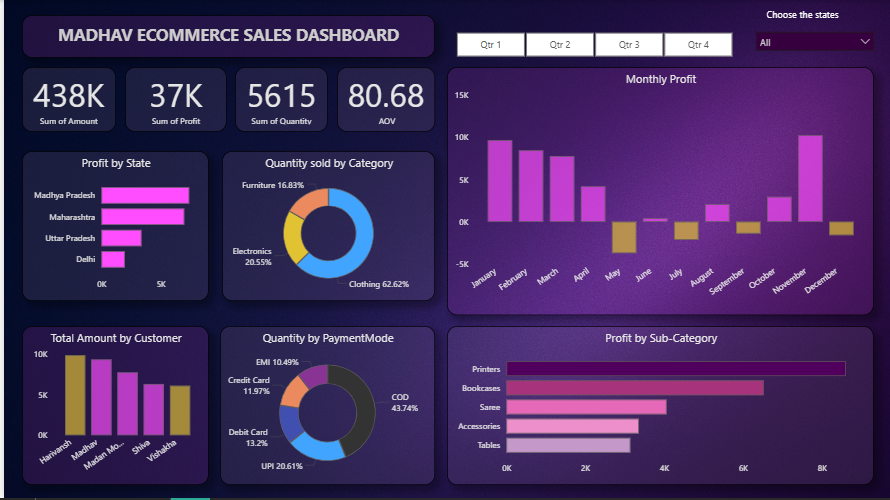

This screenshot's page, from the dashboard's own definition file:
{"tool":"powerbi","page":{"name":"Page 1Dashboard","canvas":[1280,720],"ordinal":0},"visuals":[{"type":"textbox","box":[26,0,597.1,83.9],"z":0},{"type":"columnChart","title":"Monthly Profit","fields":{"Category":["Orders.Order Date.Variation.Date Hierarchy.Month"],"Y":["Details.Profit"]},"box":[640.5,96.9,617.3,358.6],"z":1000},{"type":"barChart","title":" Profit by Sub-Category","fields":{"Category":["Details.Sub-Category"],"Y":["Details.Profit"]},"box":[640.5,471.3,617.3,229.9],"z":2000},{"type":"donutChart","title":"Quantity sold  by Category","fields":{"Category":["Details.Category"],"Y":["Details.Quantity"]},"box":[315.2,218.3,308,216.9],"z":3000},{"type":"donutChart","title":"Quantity by PaymentMode","fields":{"Y":["Details.Quantity"],"Category":["Details.PaymentMode"]},"box":[312.3,471.3,310.8,229.9],"z":4000},{"type":"card","fields":{"Values":["Details.AOV"]},"box":[481.4,96.9,141.7,94],"z":5000},{"type":"card","fields":{"Values":["Details.Amount"]},"box":[26,96.9,135.9,94],"z":6000},{"type":"card","fields":{"Values":["Details.Profit"]},"box":[174.5,96.9,147.5,94],"z":7000},{"type":"card","fields":{"Values":["Details.Quantity"]},"box":[334.5,96.9,134.5,94],"z":8000},{"type":"barChart","title":"Profit by State","fields":{"Y":["Details.Profit"],"Category":["Orders.State"]},"box":[26,218.3,270.4,216.9],"z":9000},{"type":"columnChart","title":"Total Amount by Customer","fields":{"Y":["Details.Amount"],"Category":["Orders.CustomerName"]},"box":[26,471.3,270.4,229.9],"z":10000},{"type":"slicer","fields":{"Values":["Orders.Order Date.Variation.Date Hierarchy.Quarter"]},"box":[628.9,40.5,448.2,47.7],"z":11000},{"type":"slicer","fields":{"Values":["Orders.State"]},"box":[1077.1,36.1,190.8,47.7],"z":12000},{"type":"textbox","box":[1097.3,7.2,148.9,28.9],"z":12001}]}

Visuals, with their boxes in screenshot pixels (x1, y1, x2, y2), scaled from the page's 1280x720 canvas onto the 890x500 screenshot:
textbox: bbox=(18, 0, 433, 58)
"Monthly Profit" columnChart: bbox=(445, 67, 875, 316)
" Profit by Sub-Category" barChart: bbox=(445, 327, 875, 487)
"Quantity sold  by Category" donutChart: bbox=(219, 152, 433, 302)
"Quantity by PaymentMode" donutChart: bbox=(217, 327, 433, 487)
card - Details.AOV: bbox=(335, 67, 433, 133)
card - Details.Amount: bbox=(18, 67, 113, 133)
card - Details.Profit: bbox=(121, 67, 224, 133)
card - Details.Quantity: bbox=(233, 67, 326, 133)
"Profit by State" barChart: bbox=(18, 152, 206, 302)
"Total Amount by Customer" columnChart: bbox=(18, 327, 206, 487)
slicer - Orders.Order Date.Variation.Date Hierarchy.Quarter: bbox=(437, 28, 749, 61)
slicer - Orders.State: bbox=(749, 25, 882, 58)
textbox: bbox=(763, 5, 866, 25)
